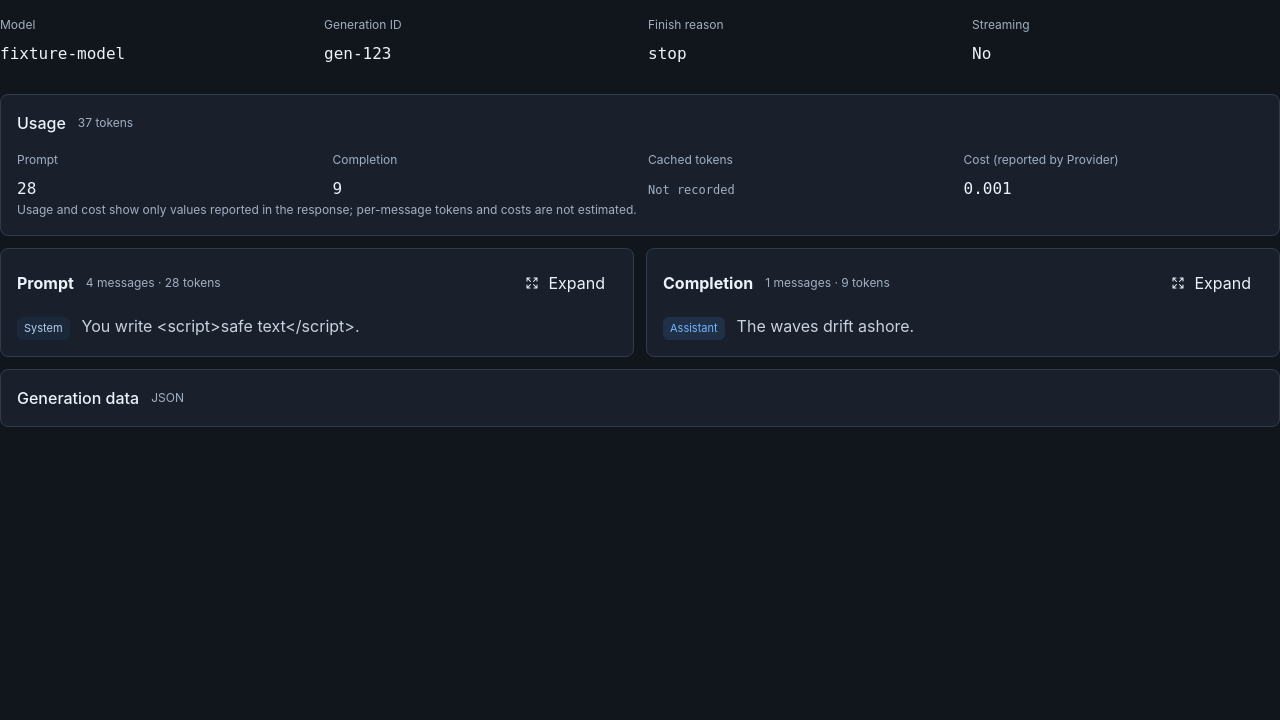
Scenario: FormattedCallExchange › localizes display and explorer controls in English
Expected: the text "Finish reason" is shown, [648,17,724,32]
Click the button with aria-label "Expand Prompt". click: (565, 283)
box: [512,265,617,301]
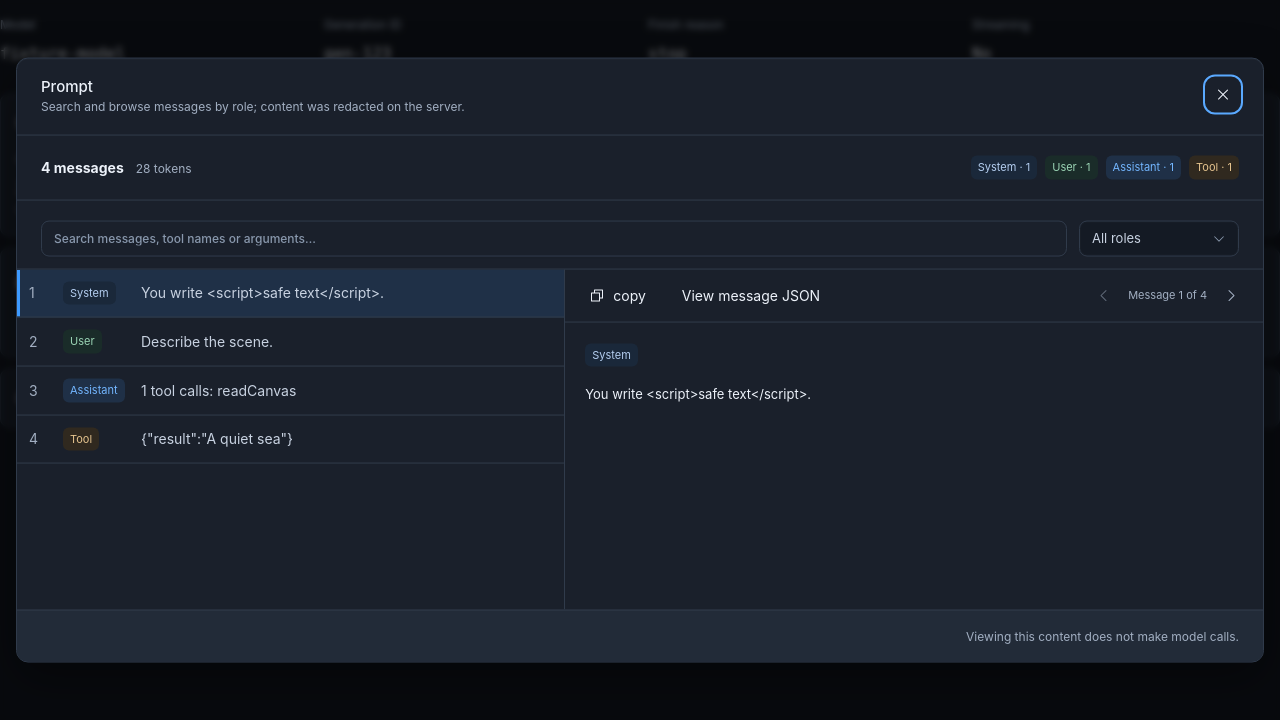
Expected: the search field labelled "Search messages" is shown, [41,220,1067,256]
Expected: the button "View message JSON" is shown, [666,277,836,313]
